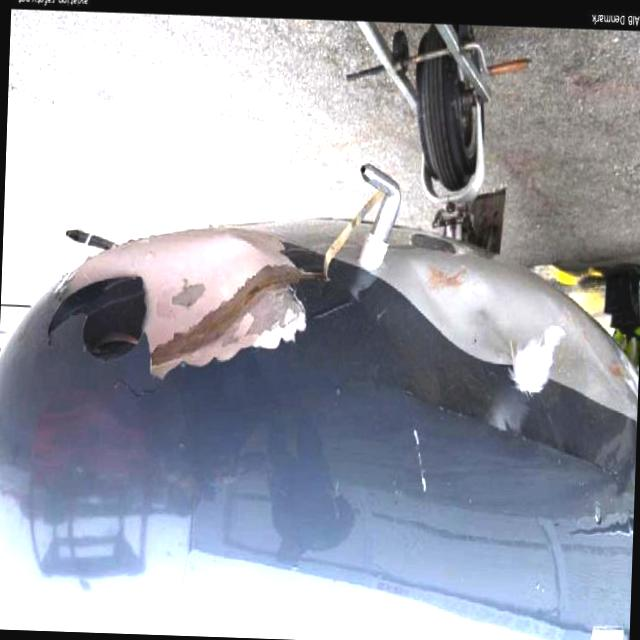crack: (108, 372, 160, 402)
dent: (183, 229, 261, 329), (453, 270, 508, 352), (403, 260, 454, 332)
